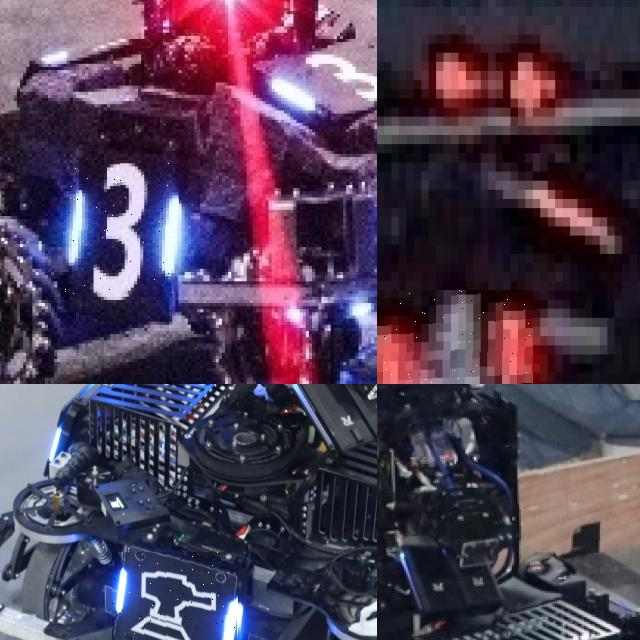B3: (63, 163, 179, 297)
Bs: (112, 552, 240, 640)
R4: (377, 290, 532, 384)
